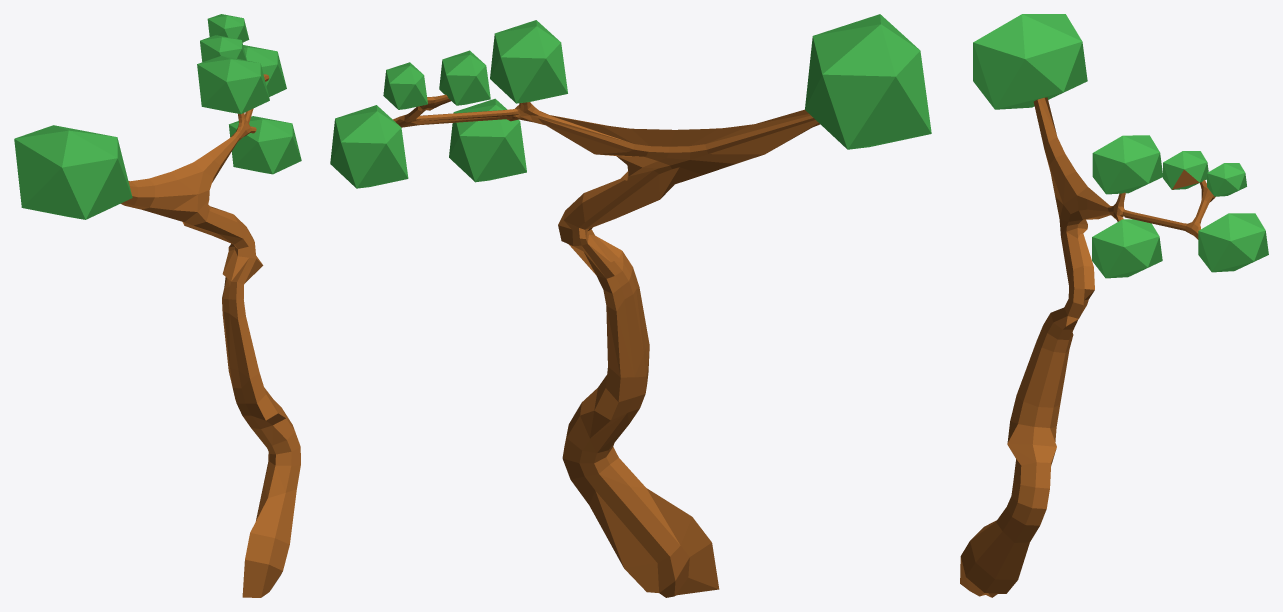
File: TreeType1.fbx
3 views of the same model, side by side, from view 1: azimuth 30°, elevation 25°; view 2: azimuth 150°, elevation 25°; view 3: azimuth 270°, elevation 25° (orthographic). The views are drawn at different scales.
Parts seen in each view (by area): view 1: Tree Type 1; view 2: Tree Type 1; view 3: Tree Type 1.
Part boxes in pixels (x1,y1,x2,y2): Tree Type 1: [14, 14, 301, 597]; Tree Type 1: [330, 14, 931, 597]; Tree Type 1: [960, 14, 1268, 597].
Bounding box in the file's own units: 615 × 813 × 459.
